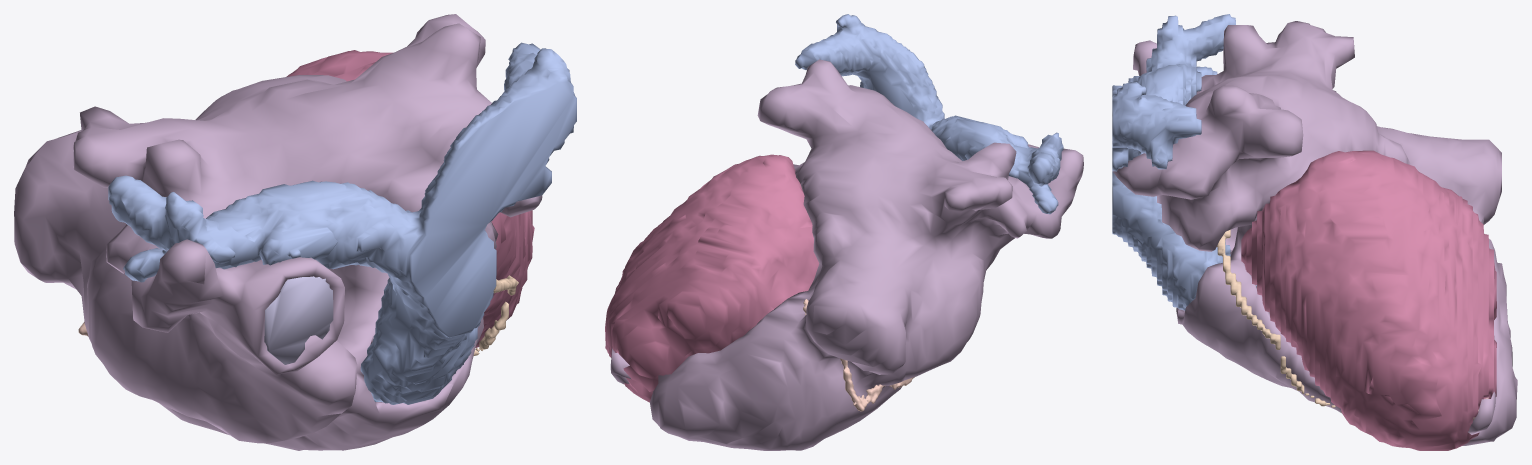
The picture shows the model from 3 angles, left to right: view 1: azimuth 30°, elevation 25°; view 2: azimuth 150°, elevation 25°; view 3: azimuth 270°, elevation 25°; orthographic projection. The views are drawn at different scales.
Parts seen in each view (by area): view 1: heart-wall, pulmonary-artery, myocardium, right-atrium, left-coronary-artery; view 2: heart-wall, myocardium, pulmonary-artery, right-coronary-artery; view 3: myocardium, heart-wall, pulmonary-artery, left-coronary-artery.
Part boxes in pixels (x1,y1,x2,y2): heart-wall: (14, 14, 542, 450); pulmonary-artery: (108, 42, 576, 404); myocardium: (286, 50, 534, 347); right-atrium: (264, 276, 333, 364); left-coronary-artery: (473, 275, 518, 355); heart-wall: (610, 59, 1083, 450); myocardium: (605, 154, 819, 402); pulmonary-artery: (795, 14, 1063, 214); right-coronary-artery: (803, 299, 914, 411); myocardium: (1241, 150, 1496, 450); heart-wall: (1113, 21, 1517, 445); pulmonary-artery: (1112, 14, 1235, 310); left-coronary-artery: (1217, 229, 1341, 412).
Bounding box in the file's own units: 139 × 118 × 123.
